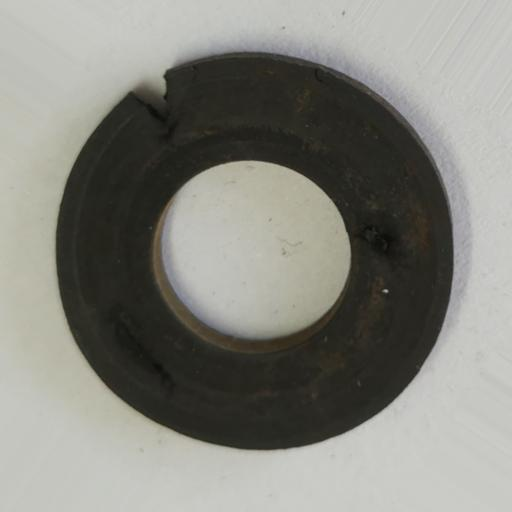defect: (129, 69, 179, 140)
